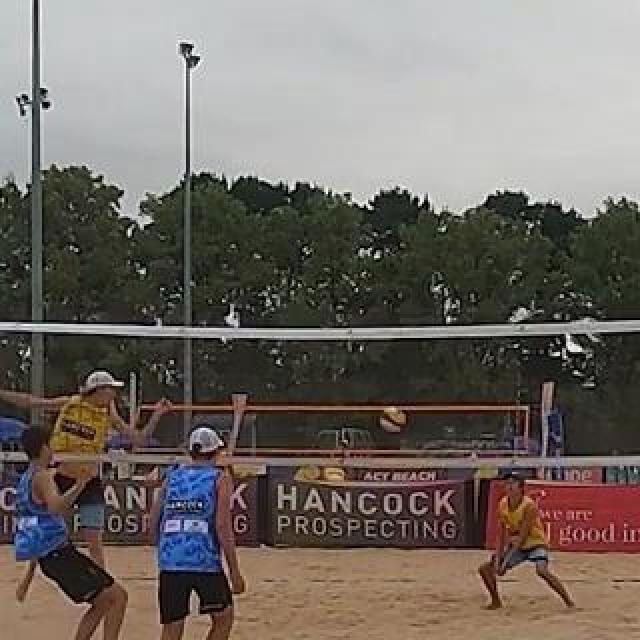volleyball: (380, 407, 406, 433)
